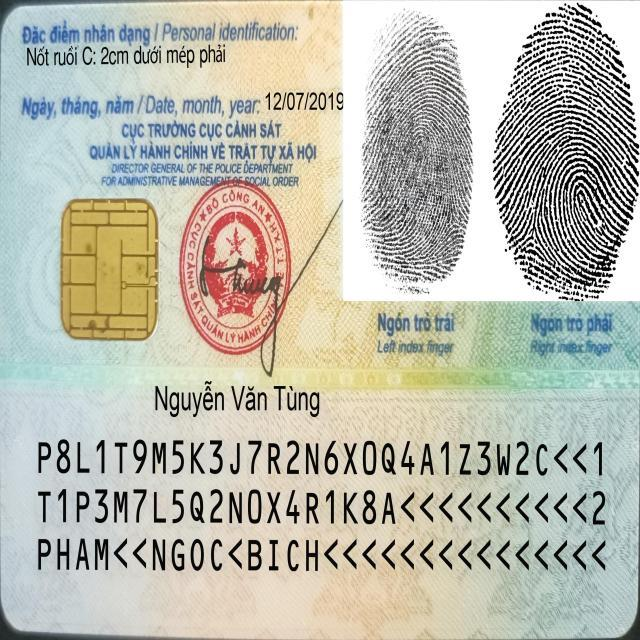features: (25, 40, 239, 72)
finger_print: (489, 1, 640, 364), (342, 0, 486, 368)
issue_date: (262, 86, 345, 116)
